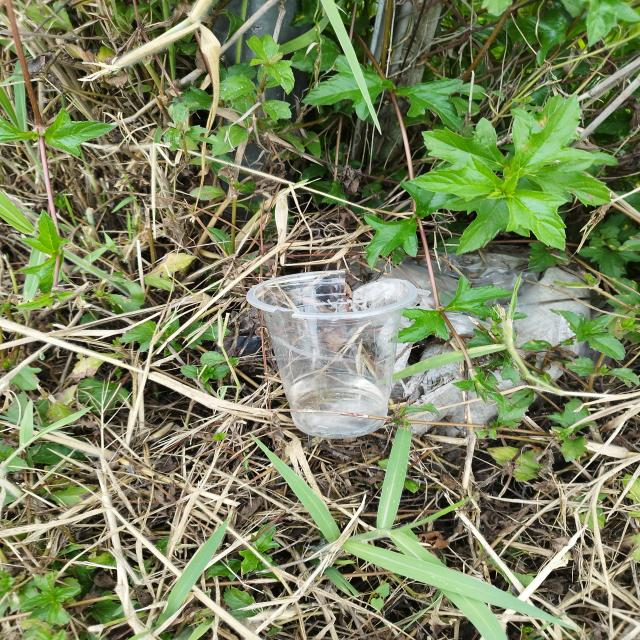plastic glass: (245, 271, 416, 438)
trash bag: (380, 250, 595, 428)
